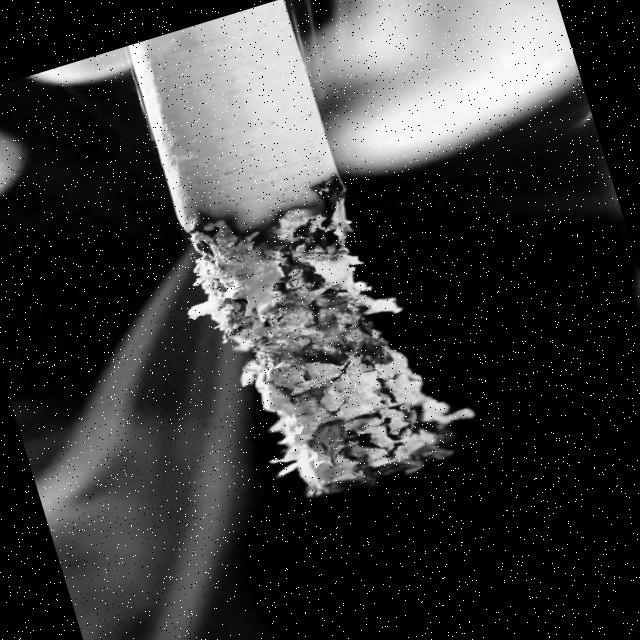cigarette: (137, 0, 445, 518)
